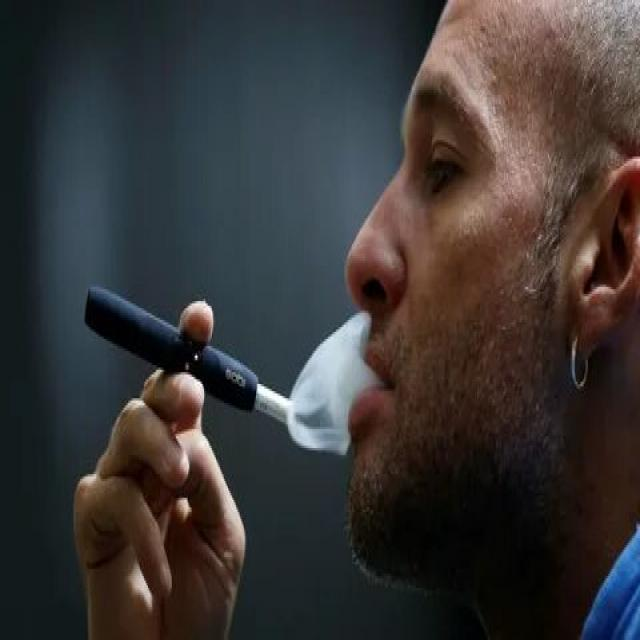cigarette: (87, 270, 316, 436)
